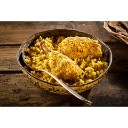briyani: (32, 36, 104, 81)
